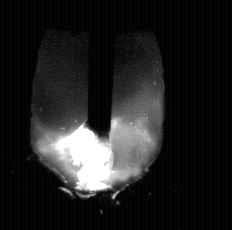arame: (85, 0, 112, 139)
poca: (29, 0, 164, 230)
